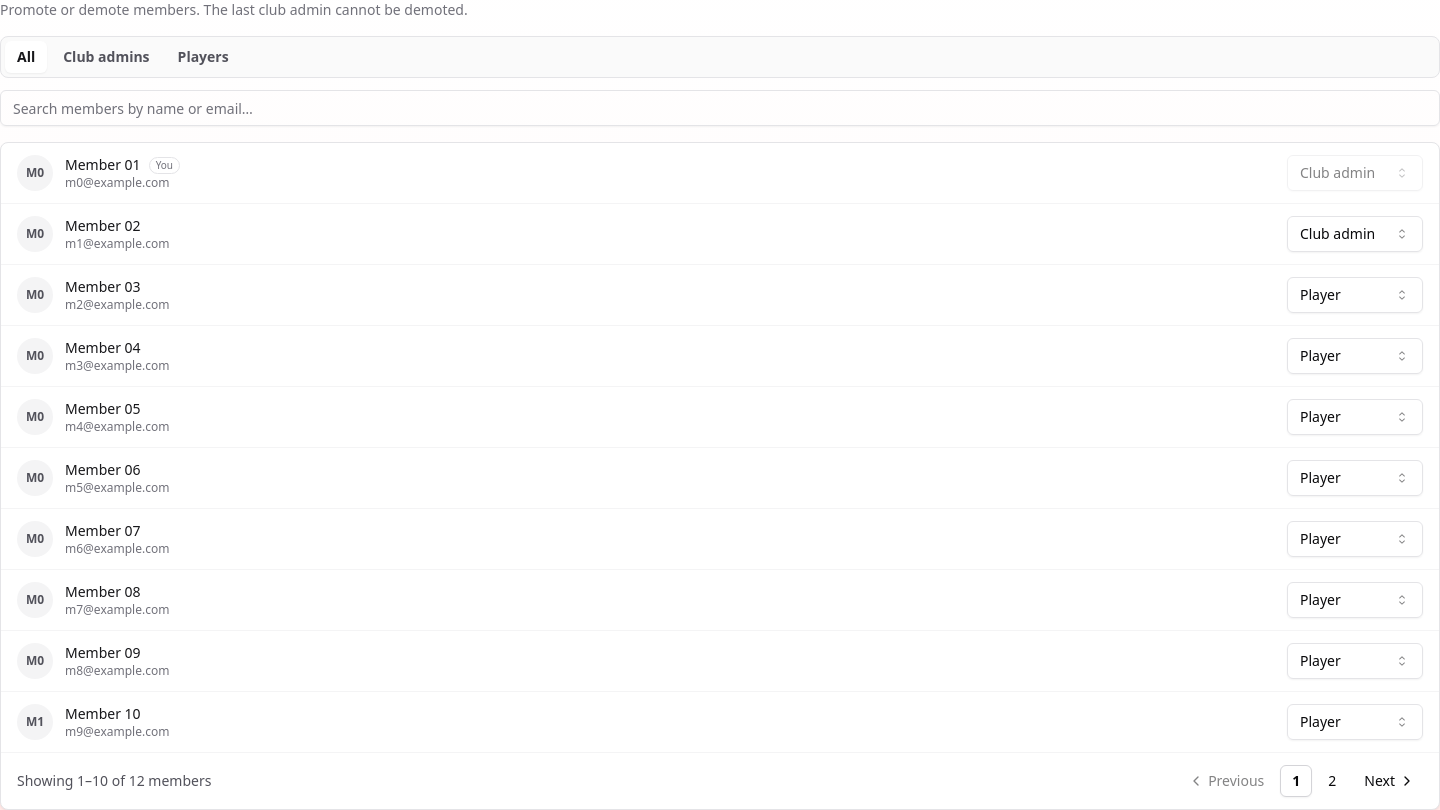
ClubAdminRoster › resets to page 1 when the role filter changes
The width and height of the screenshot is (1440, 810).
(page scrolled)
Check: the text "Member 01" is shown, box [65,155,141,175]
Click the button with aria-label "Go to next page": click(1388, 781) [1352,765,1423,797]
(page scrolled)
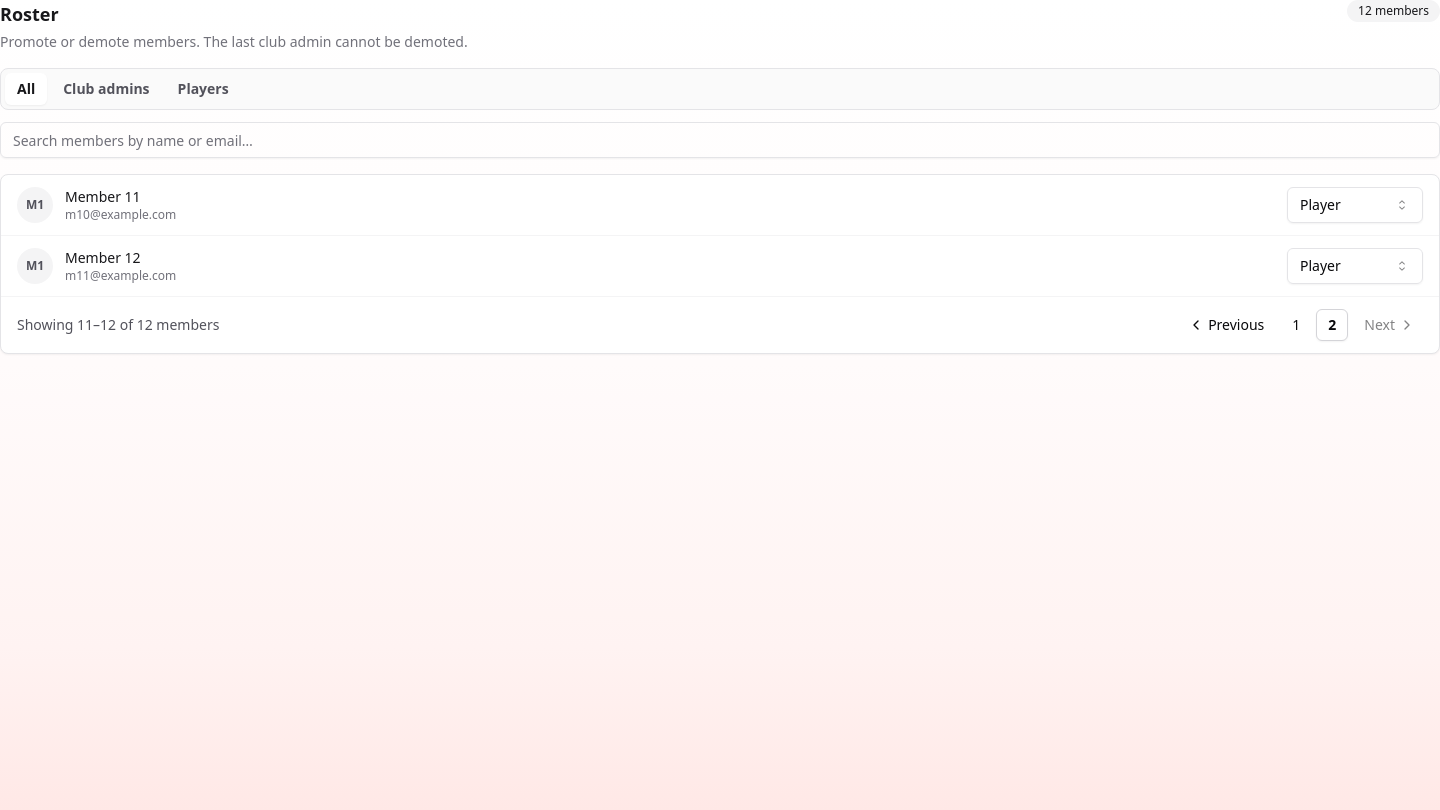
Check: the text "Member 11" is shown, box [65,187,141,207]
Click the button "Players": click(203, 89) [166,73,241,105]
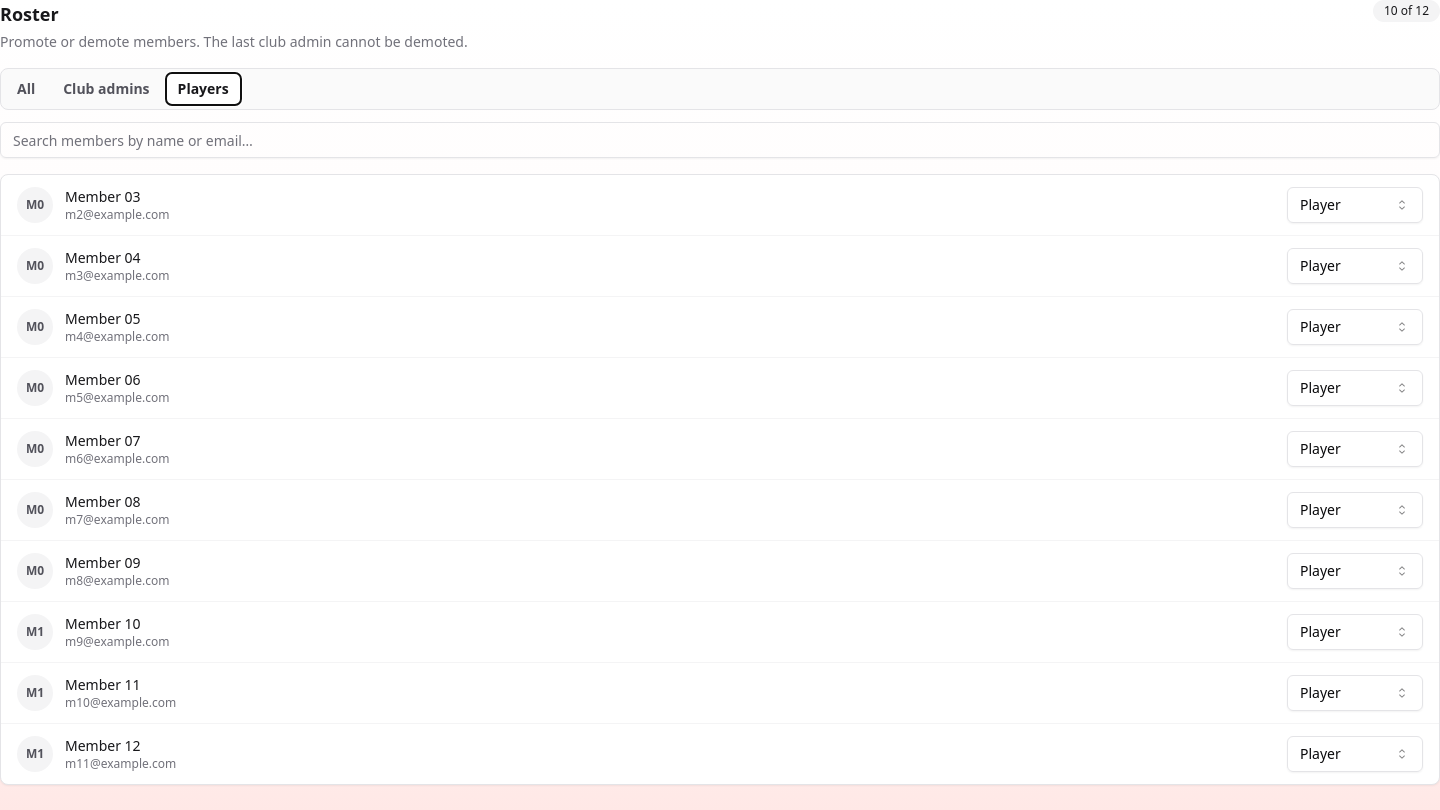
Check: the text "Member 03" is shown, box [65,187,141,207]
Check: the text "10 of 12" is shown, box [1373,0,1439,22]
Check: the navigation bar "Pagination" is gone
